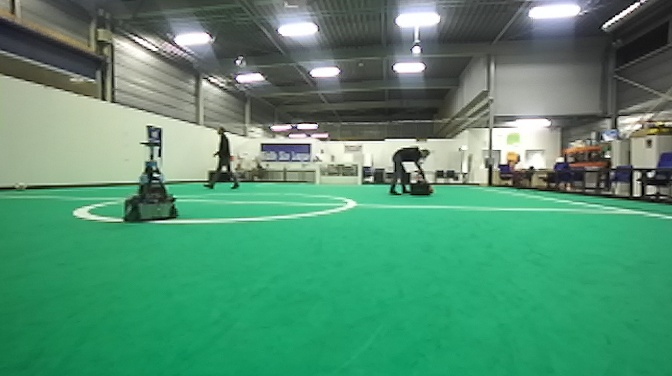ball: (11, 180, 30, 195)
goal: (315, 162, 364, 186)
goalpost: (314, 161, 323, 185), (357, 160, 364, 187)
human: (199, 125, 243, 191), (387, 145, 436, 197)
robot: (118, 136, 182, 225), (407, 162, 434, 198)
